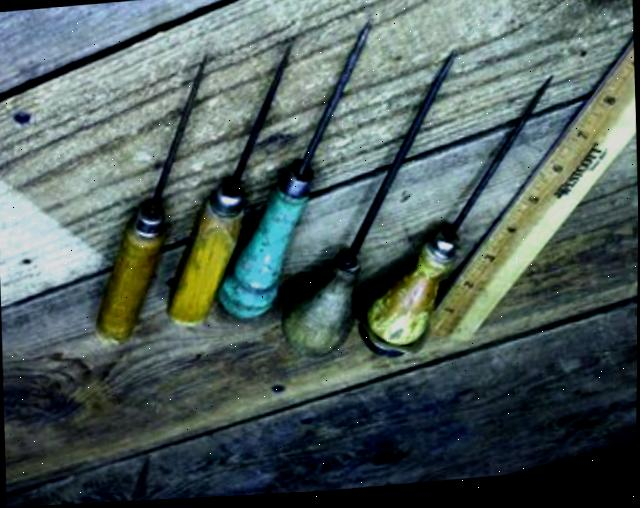ice pick: (270, 51, 468, 365), (350, 76, 562, 365), (209, 19, 384, 321), (157, 36, 303, 330), (84, 54, 217, 348)
